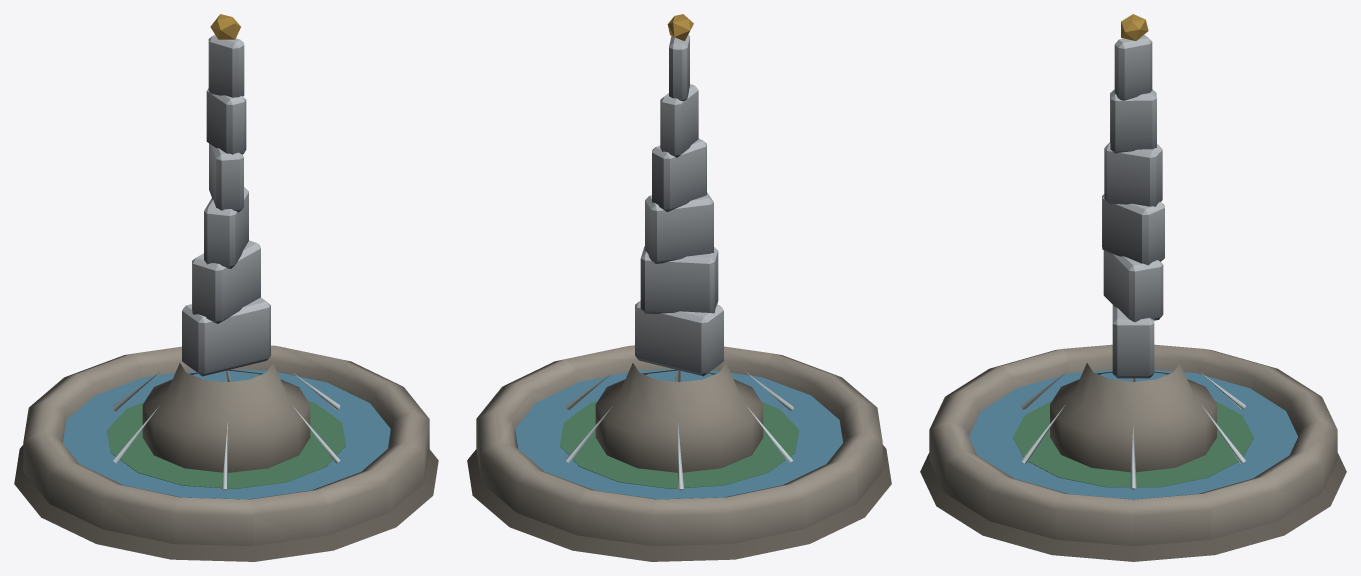
The model's file is plaza_centerpiece_01.glb.
3 views of the same model, side by side, from view 1: azimuth 30°, elevation 25°; view 2: azimuth 150°, elevation 25°; view 3: azimuth 270°, elevation 25° (orthographic).
Parts seen in each view (by area): view 1: plaza_centerpiece_01; view 2: plaza_centerpiece_01; view 3: plaza_centerpiece_01.
Part boxes in pixels (<box>): plaza_centerpiece_01: <box>14,14,438,561</box>; plaza_centerpiece_01: <box>467,14,891,561</box>; plaza_centerpiece_01: <box>920,14,1346,561</box>.
Size of the model in its own units: 4.6 by 5.39 by 4.6.
